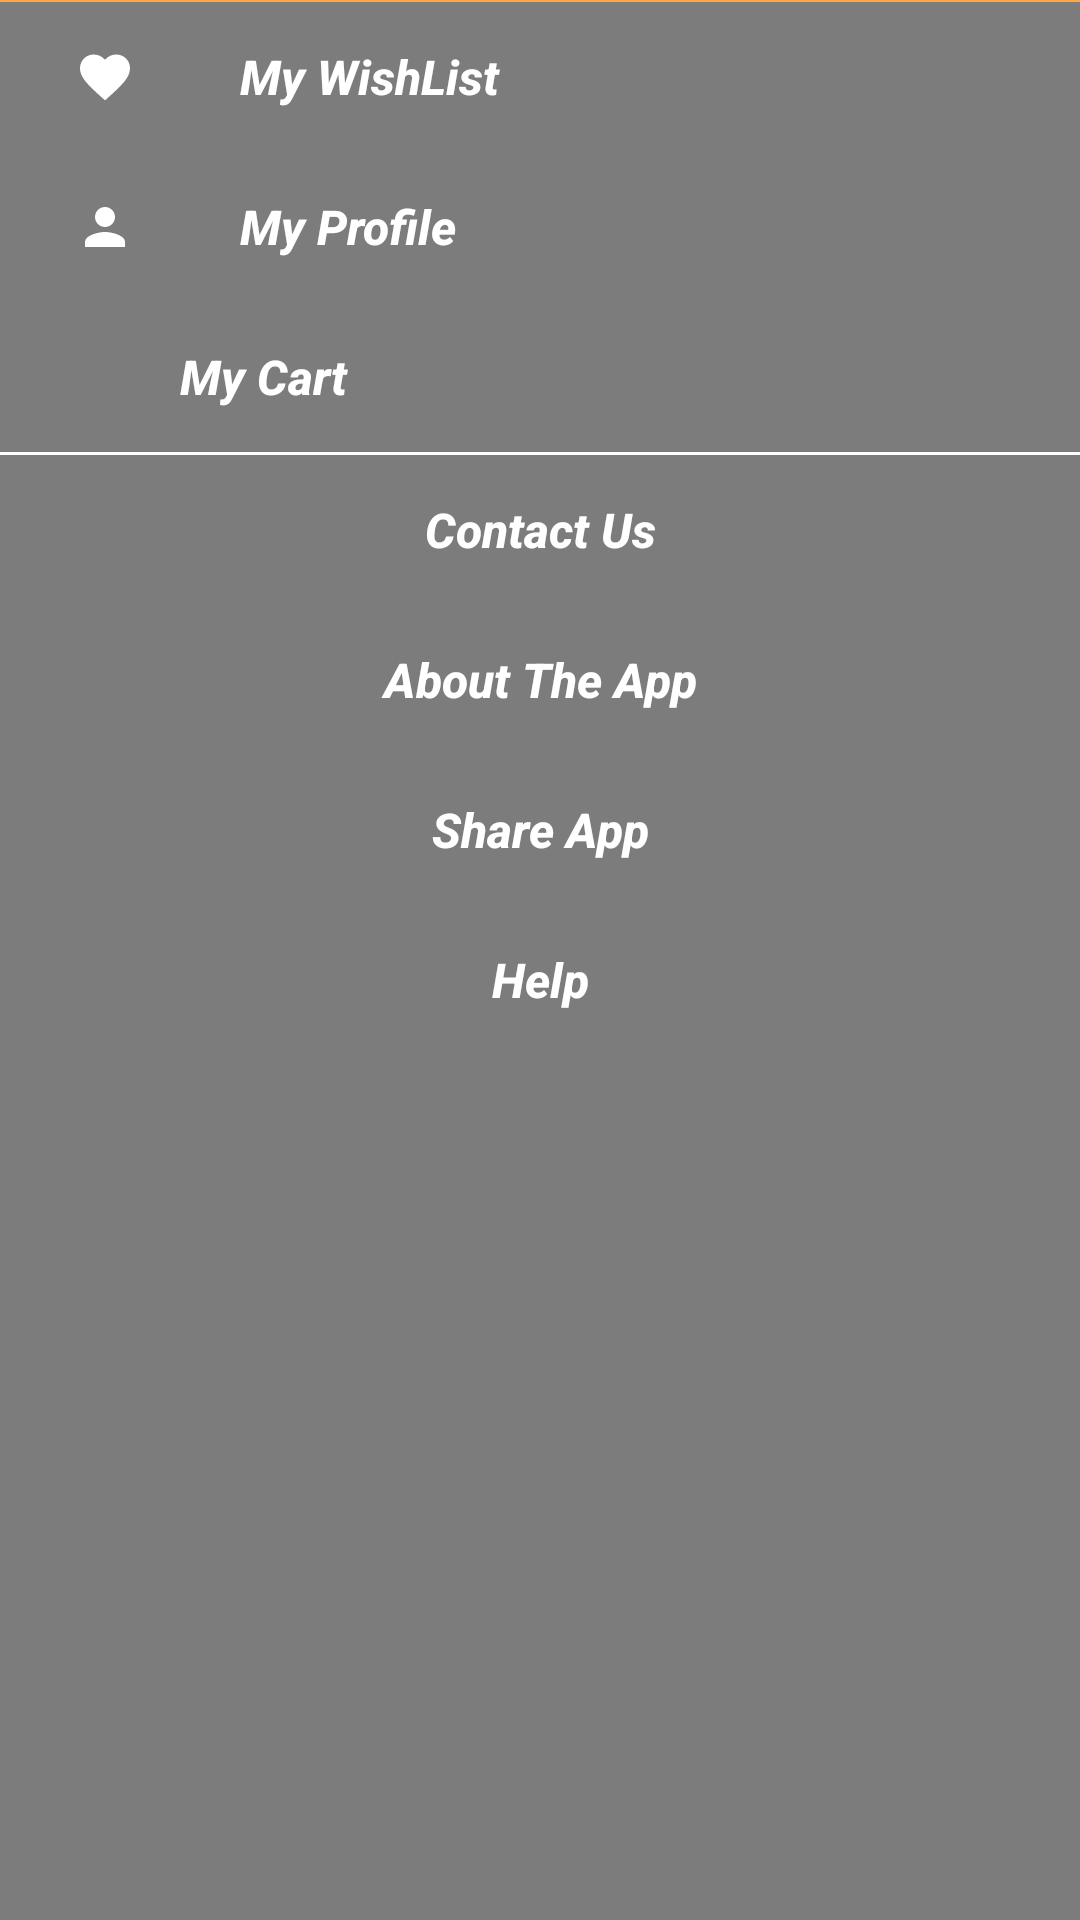

Named icons in this screenshot (1080×1920) and their bounding boxes, region(x1, y1, x2, y2):
favorite: region(80, 54, 130, 100)
person: region(85, 207, 125, 247)
